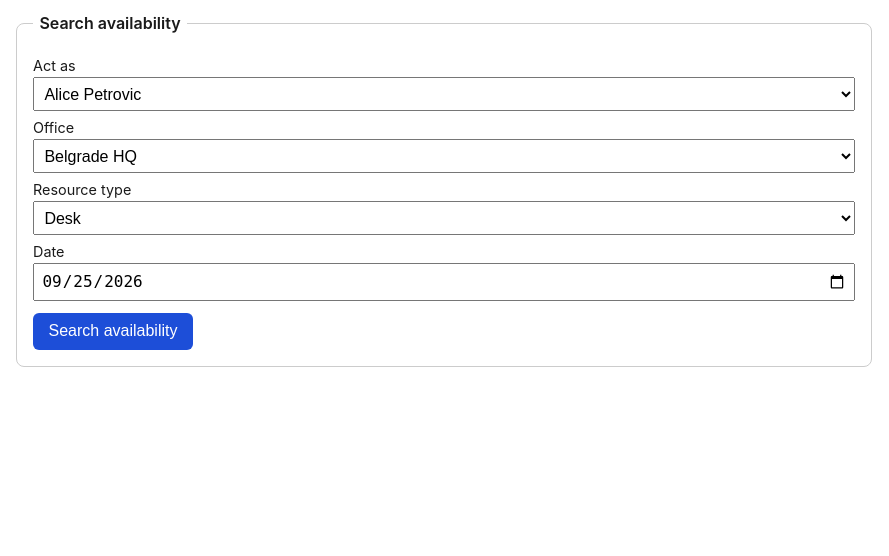
Test: SearchPanel (TASK-17 §A, booking creation rendering) › renders available resources and lets the presenter book one, reporting success
Click the button "Search availability" at x=113, y=332, box left=33, top=313, right=193, bottom=350
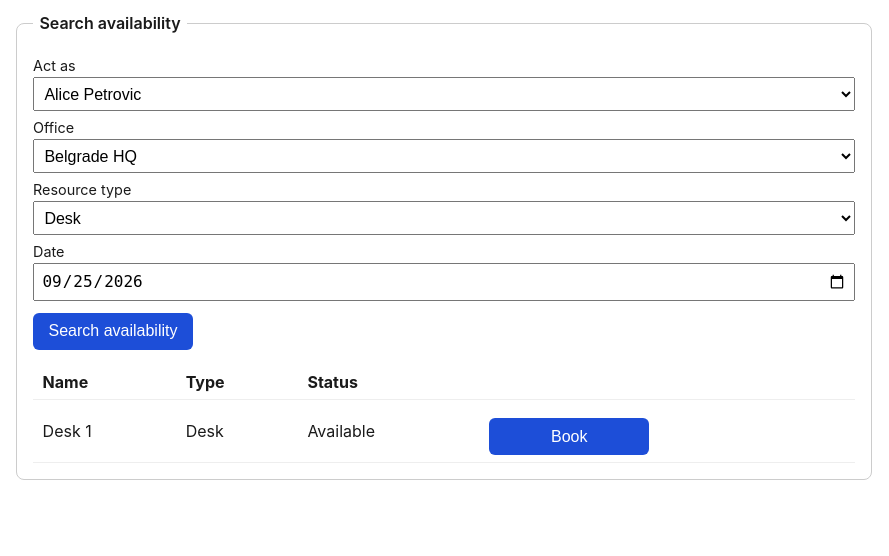
Check: the text "Desk 1" is shown, box left=33, top=399, right=176, bottom=462
Click the button "Book" at x=569, y=437, box left=489, top=418, right=649, bottom=455
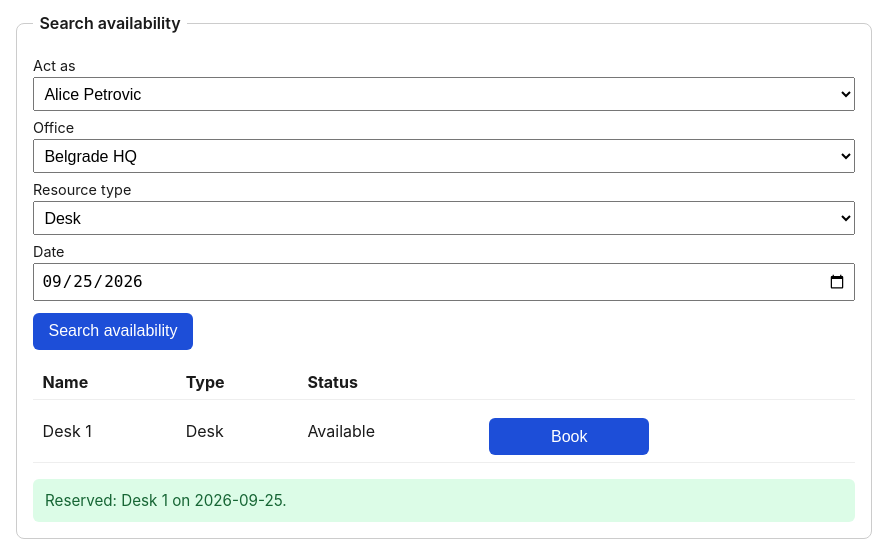
Check: the text "Reserved: Desk 1 on 2026-09-25." is shown, box left=33, top=479, right=855, bottom=522
